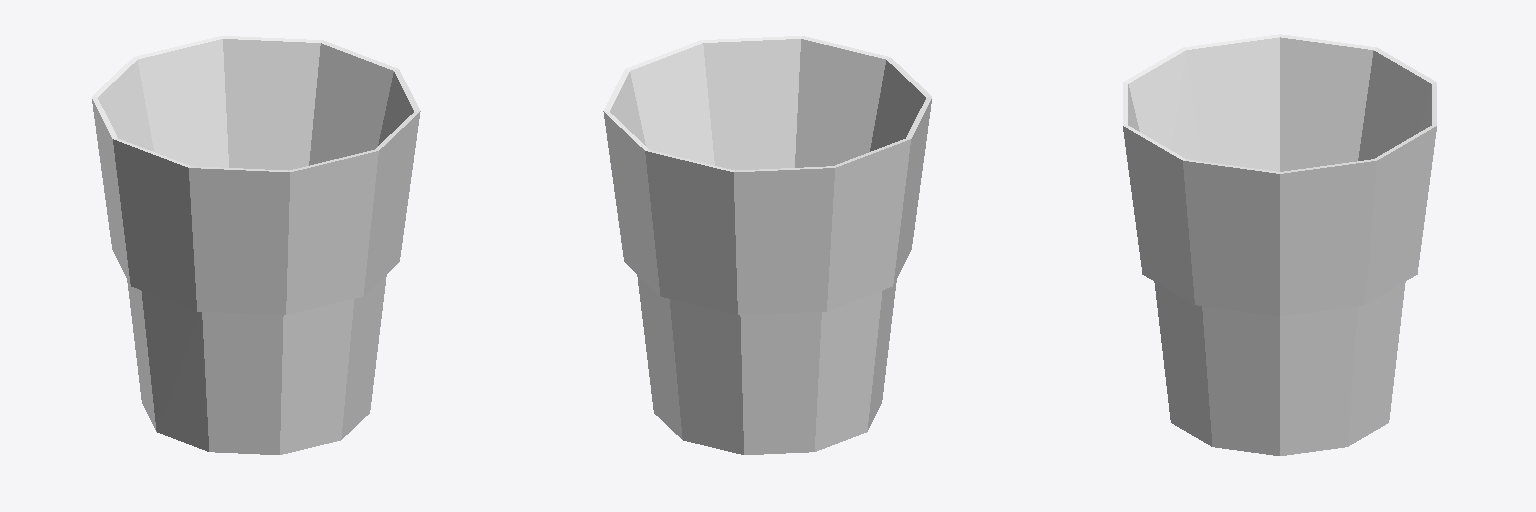
The model's file is DrinkingGlass.obj.
3 views of the same model, side by side, from view 1: azimuth 30°, elevation 25°; view 2: azimuth 150°, elevation 25°; view 3: azimuth 270°, elevation 25° (orthographic).
Visible parts, largest first — view 1: Cylinder; view 2: Cylinder; view 3: Cylinder.
Boxes of the visible parts, <box> form: Cylinder: <box>92,36,420,454</box>; Cylinder: <box>603,36,931,454</box>; Cylinder: <box>1123,34,1436,455</box>.
Size of the model in its own units: 0.0788 by 0.0798 by 0.0749.